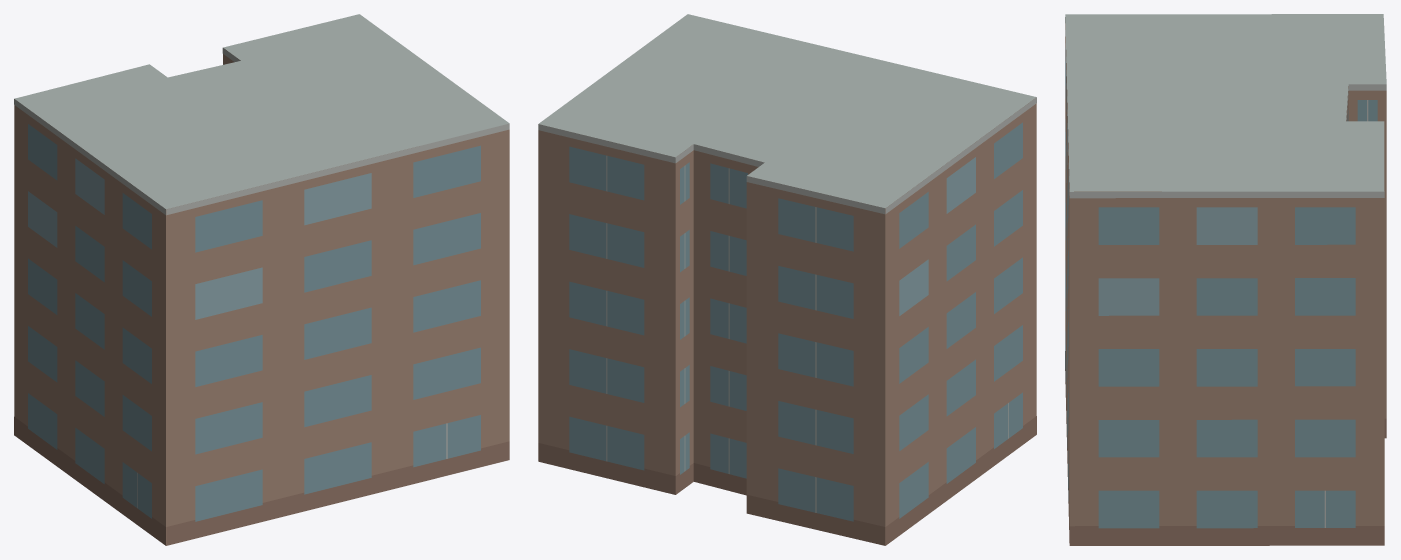
File: survey-upis-32724992.glb
3 renders of one model, left to right at view 1: azimuth 30°, elevation 25°; view 2: azimuth 150°, elevation 25°; view 3: azimuth 270°, elevation 25°, orthographic. The views are drawn at different scales.
Parts seen in each view (by area): view 1: survey-upis-32724992.tmp; view 2: survey-upis-32724992.tmp; view 3: survey-upis-32724992.tmp.
Part boxes in pixels (<box>): survey-upis-32724992.tmp: <box>14,14,509,545</box>; survey-upis-32724992.tmp: <box>538,14,1036,545</box>; survey-upis-32724992.tmp: <box>1065,14,1386,545</box>.
Bounding box in the file's own units: 14.55 × 13.5 × 11.12.
